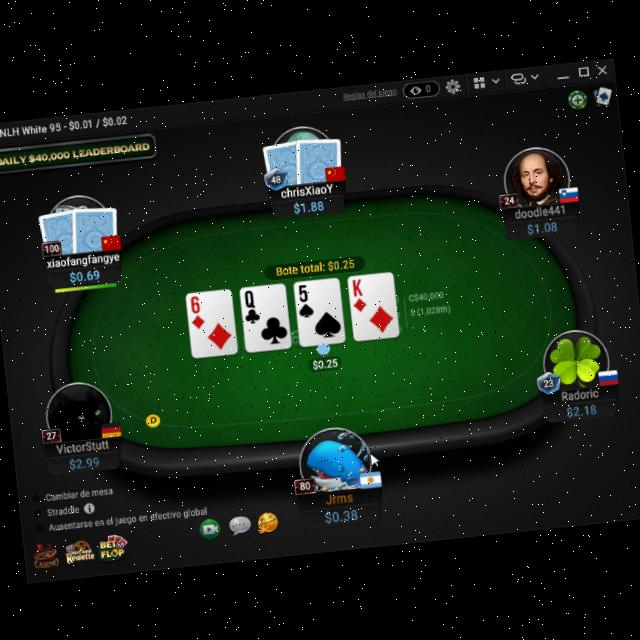5s: (296, 280, 318, 318)
6d: (186, 292, 207, 330)
Kd: (349, 276, 370, 314)
Qc: (240, 286, 262, 324)
bet_text: (310, 352, 340, 373)
card_back: (67, 200, 122, 258), (291, 131, 347, 185), (260, 137, 310, 191), (34, 206, 84, 258)
dealer: (142, 406, 164, 429)
pot_text: (274, 256, 357, 278)
stack_text: (322, 503, 359, 525), (66, 452, 103, 472), (291, 196, 327, 216), (563, 399, 599, 419), (526, 218, 560, 236), (68, 266, 102, 282)
